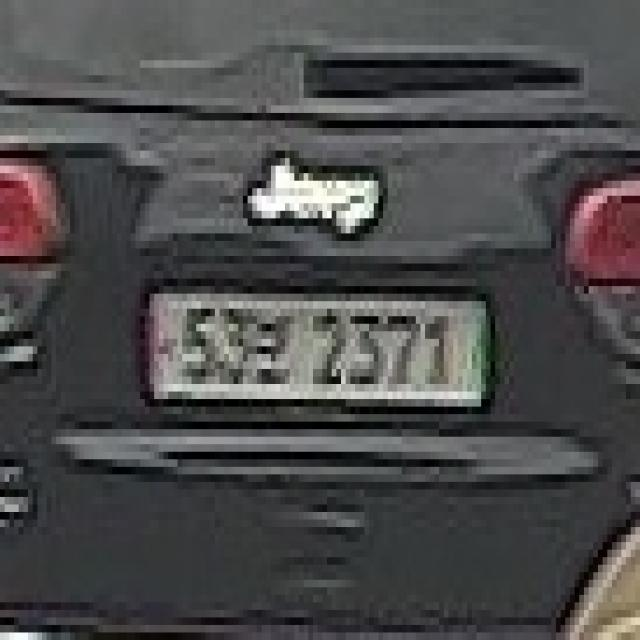1: (425, 301, 458, 407)
2: (299, 301, 355, 399)
3: (341, 301, 383, 399), (215, 294, 252, 392)
5: (168, 301, 220, 392)
7: (379, 301, 425, 414)
bo: (248, 301, 294, 377)
license_plate: (140, 271, 495, 422)
